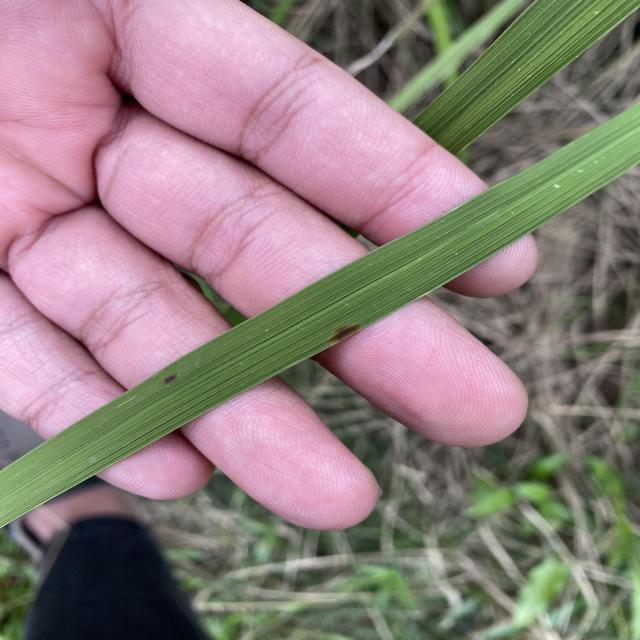Dom nau: (327, 322, 367, 342), (160, 371, 182, 388)
